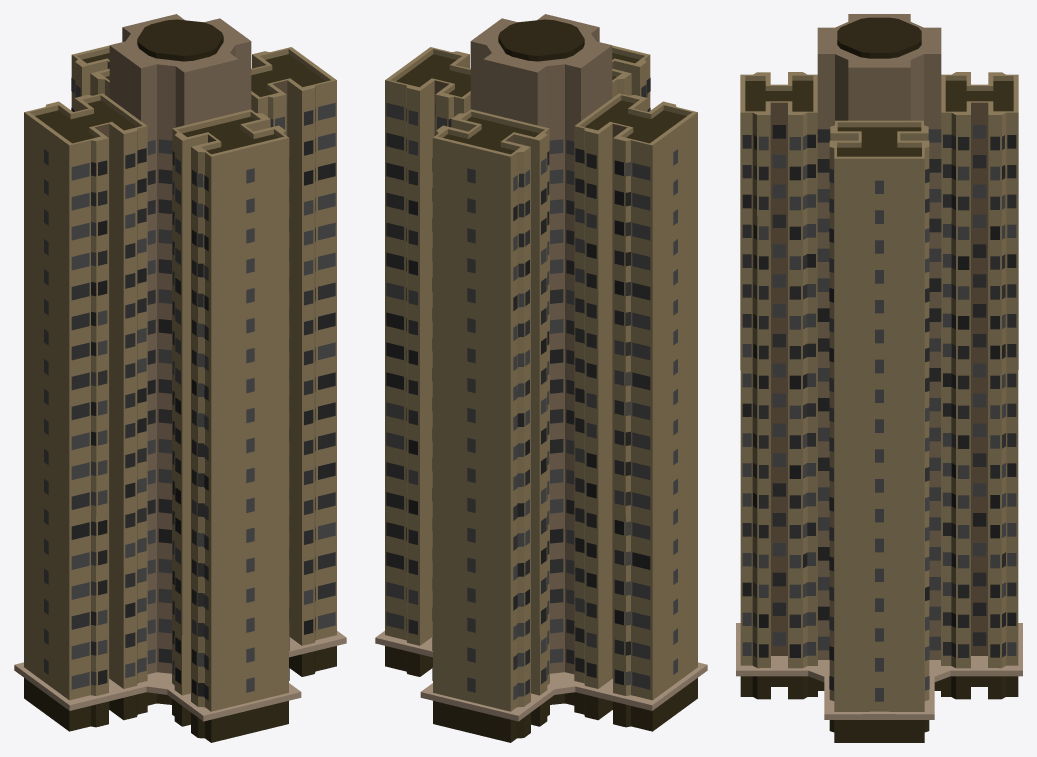
File: building - hong_kong_h-type_residential_building.glb
3 renders of one model, left to right at view 1: azimuth 30°, elevation 25°; view 2: azimuth 150°, elevation 25°; view 3: azimuth 270°, elevation 25°, orthographic.
Visible parts, largest first — view 1: HouseType2_0; view 2: HouseType2_0; view 3: HouseType2_0.
Boxes of the visible parts, x1,y1,x2,y2 form: HouseType2_0: (14,14,346,742); HouseType2_0: (375,14,707,742); HouseType2_0: (736,14,1022,742).
Size of the model in its own units: 2.1 by 4.67 by 1.89.
Materials: 1 (1 with a texture image).
